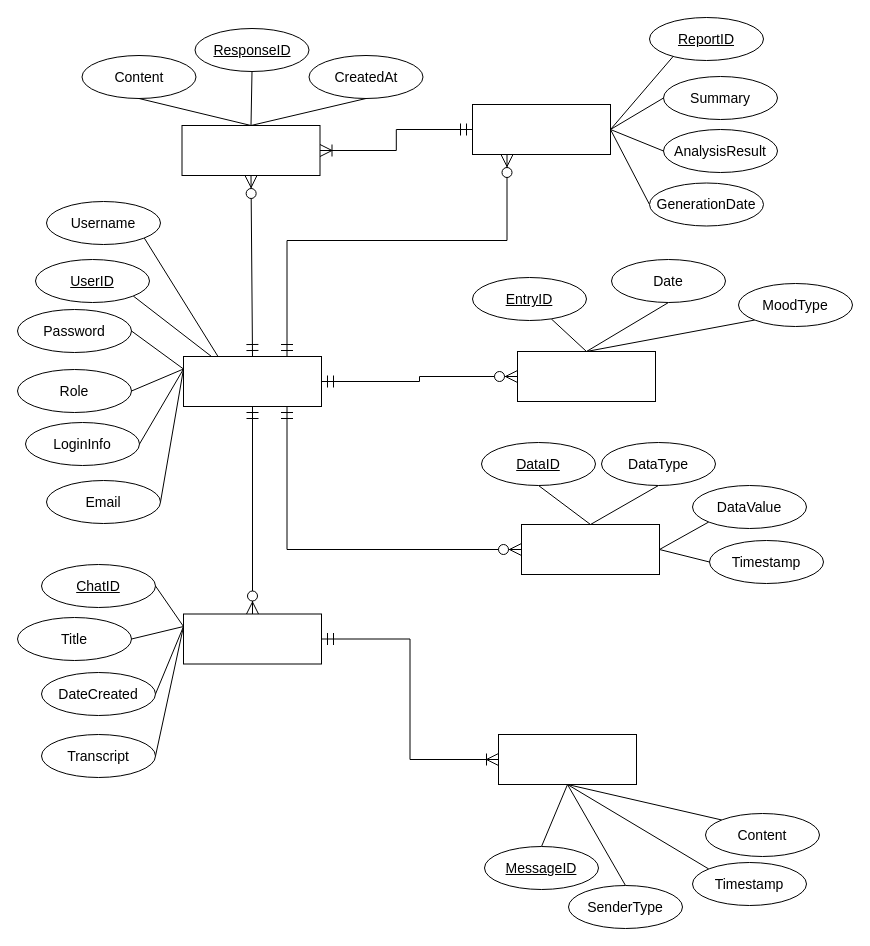
The diagram is 870 pixels wide and 946 high, and some of its shapes have lost their labels. Here are the shapes that lost their labels. From the top down, the centre of each, then its label:
point 541,129: Report
point 250,150: Response
point 252,381: User
point 586,376: MoodEntry
point 590,549: DeviceData
point 252,638: Session
point 567,759: ChatMessage
